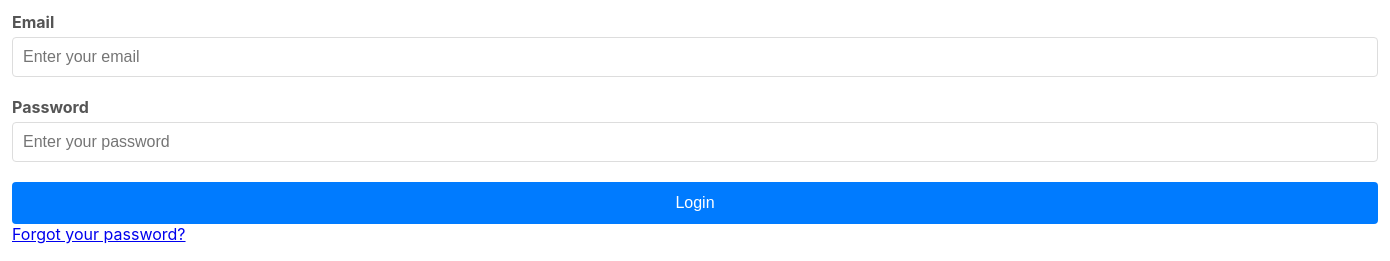
Scenario: LoginForm › shows loading state during submission
This screenshot has width=1390, height=261.
Type "john.doe@example.com" into the field labelled "Email" at [695, 57], box [12,37,1378,77]
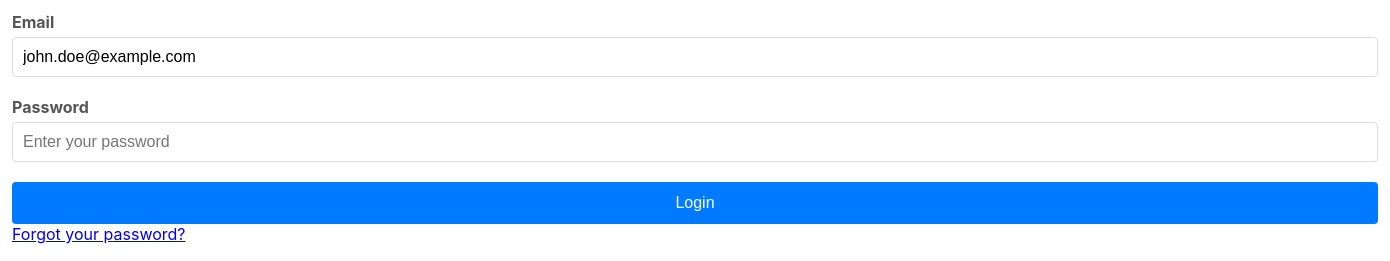
Type "password123" into the password field labelled "Password" at [695, 142], box [12,122,1378,162]
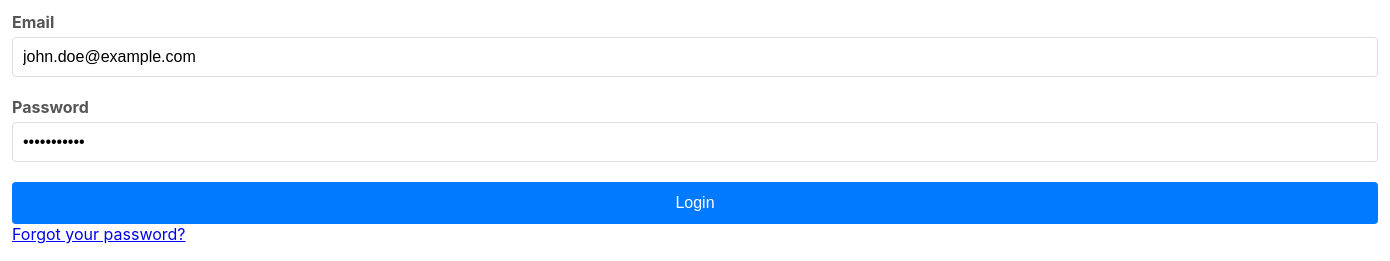
Click the button "Login" at [695, 203], box [12,182,1378,224]
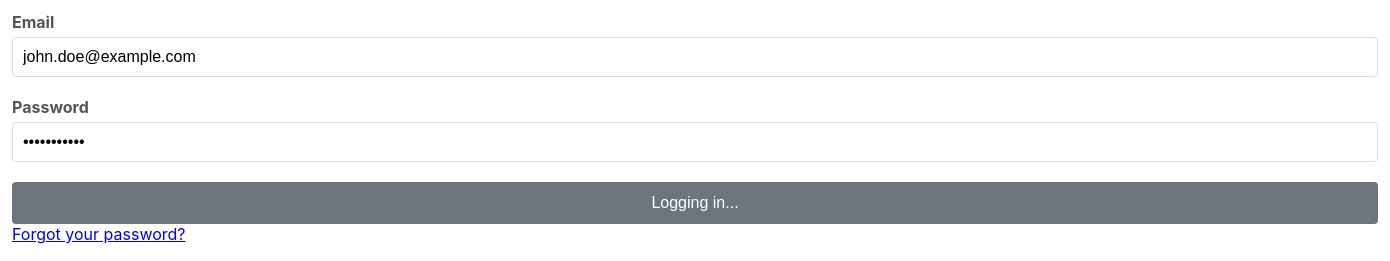
Check: the button is disabled, box [12,182,1378,224]
